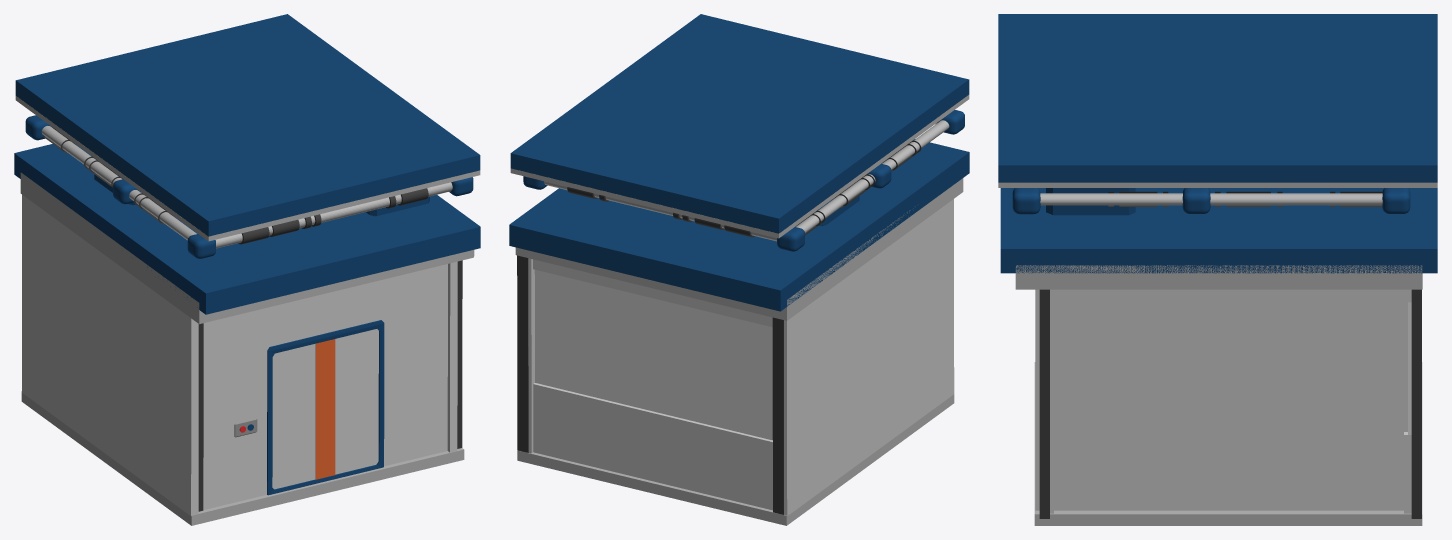
Rendered from endroad.fbx.
The picture shows the model from 3 angles, left to right: view 1: azimuth 30°, elevation 25°; view 2: azimuth 150°, elevation 25°; view 3: azimuth 270°, elevation 25°; orthographic projection. The views are drawn at different scales.
Parts seen in each view (by area): view 1: 天花板.008, 建築物天.010; view 2: 天花板.008, 建築物天.010; view 3: 天花板.008, 建築物天.010.
Boxes of the visible parts, <box> form: 天花板.008: <box>14,144,480,525</box>; 建築物天.010: <box>15,14,480,258</box>; 天花板.008: <box>509,139,969,525</box>; 建築物天.010: <box>510,14,969,251</box>; 天花板.008: <box>1000,188,1437,525</box>; 建築物天.010: <box>998,14,1437,215</box>.
Bounding box in the file's own units: 627 × 681 × 752.
